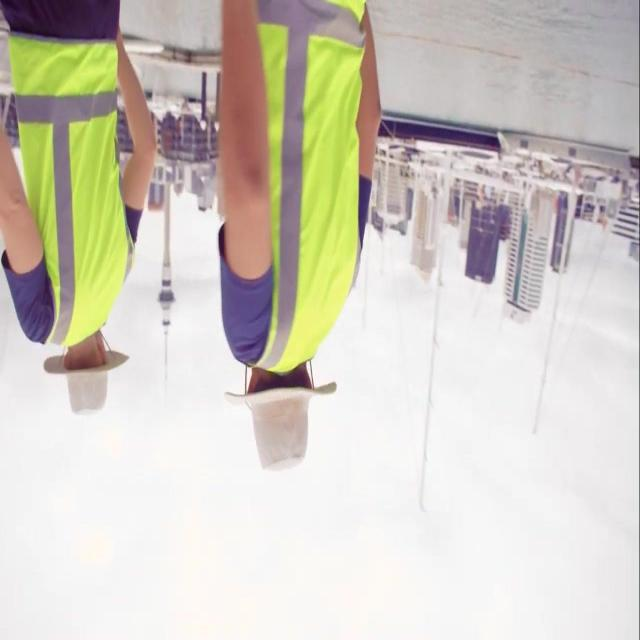jacket: (214, 0, 376, 384), (22, 17, 136, 351)
